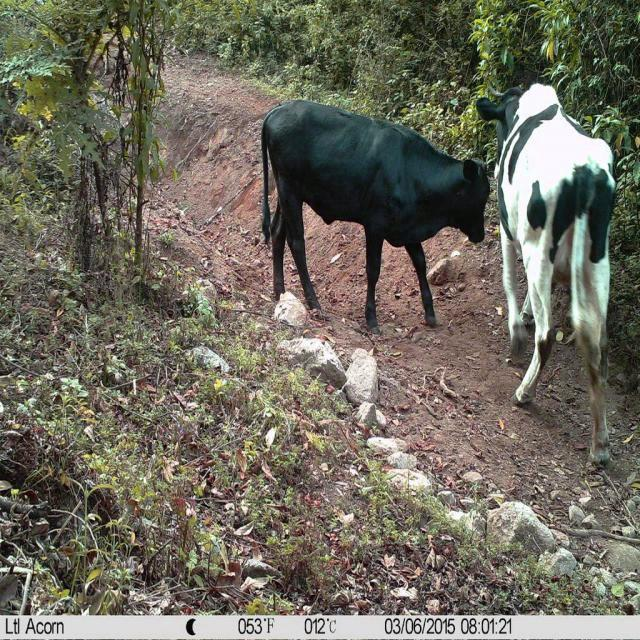cow: (261, 101, 490, 332), (478, 84, 615, 464)
